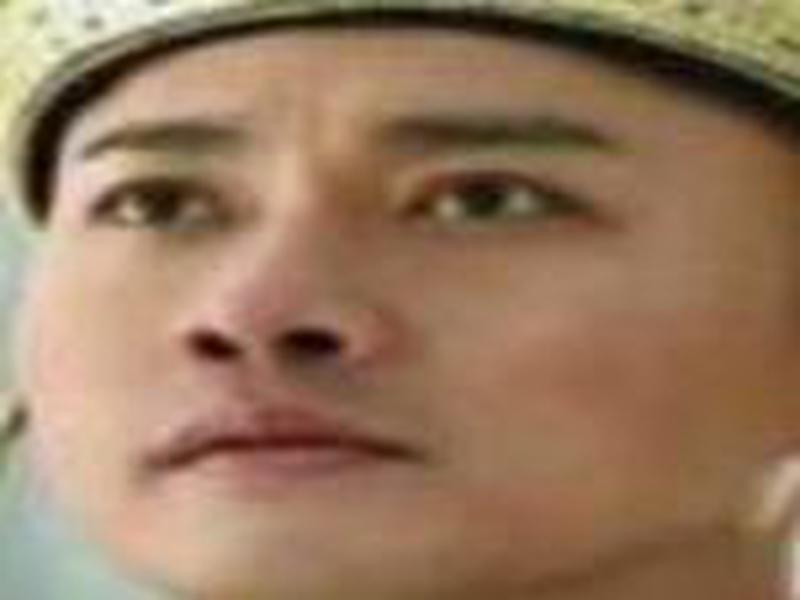without_mask: (27, 51, 749, 584)
